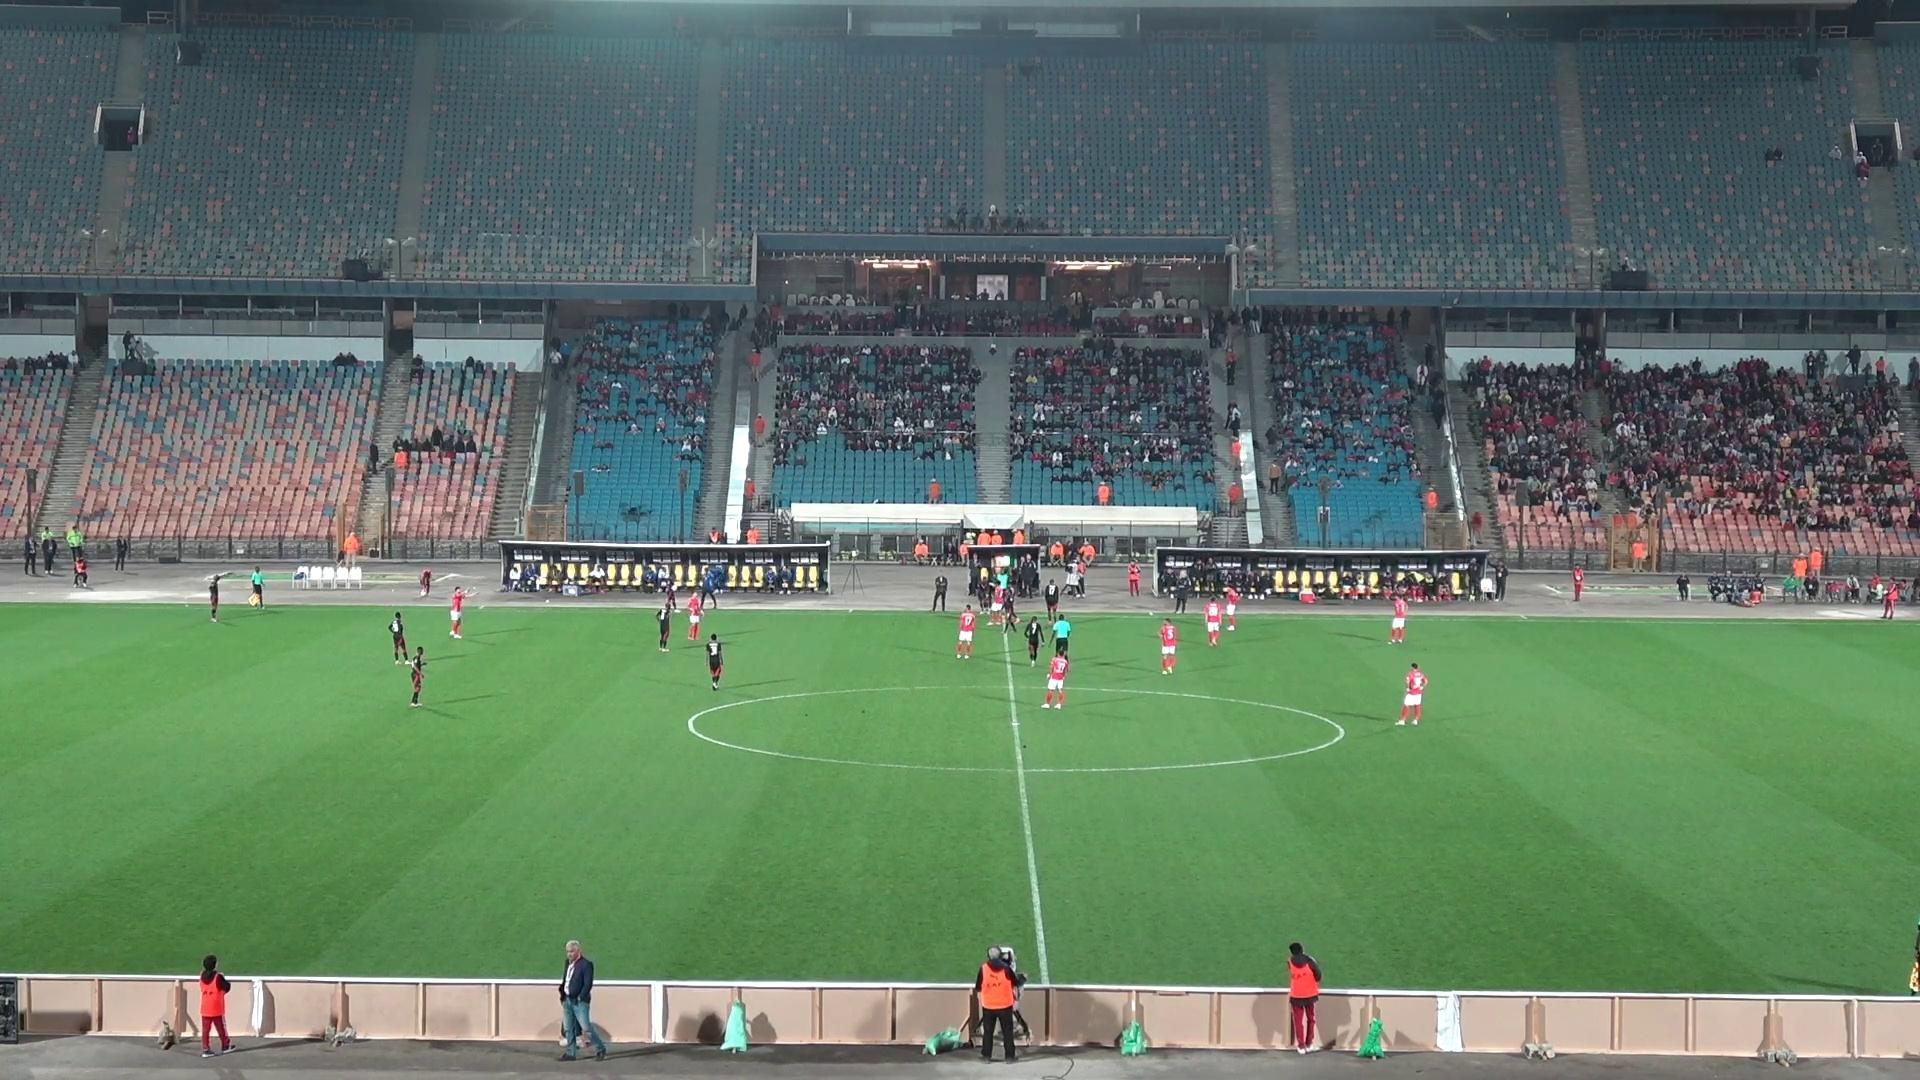Refree: (1046, 612, 1072, 655), (247, 567, 264, 609)
Team1: (1396, 662, 1428, 725), (1203, 593, 1234, 647), (1040, 651, 1069, 708), (955, 607, 978, 658), (684, 589, 705, 641), (1389, 589, 1408, 644), (986, 579, 1009, 626), (1159, 618, 1178, 674), (448, 587, 467, 640), (1222, 585, 1241, 632)
Team2: (386, 611, 413, 665), (1019, 615, 1044, 665), (655, 593, 676, 651), (703, 633, 724, 690), (206, 574, 227, 622), (409, 647, 425, 707), (1043, 579, 1062, 622), (1002, 585, 1018, 636)
